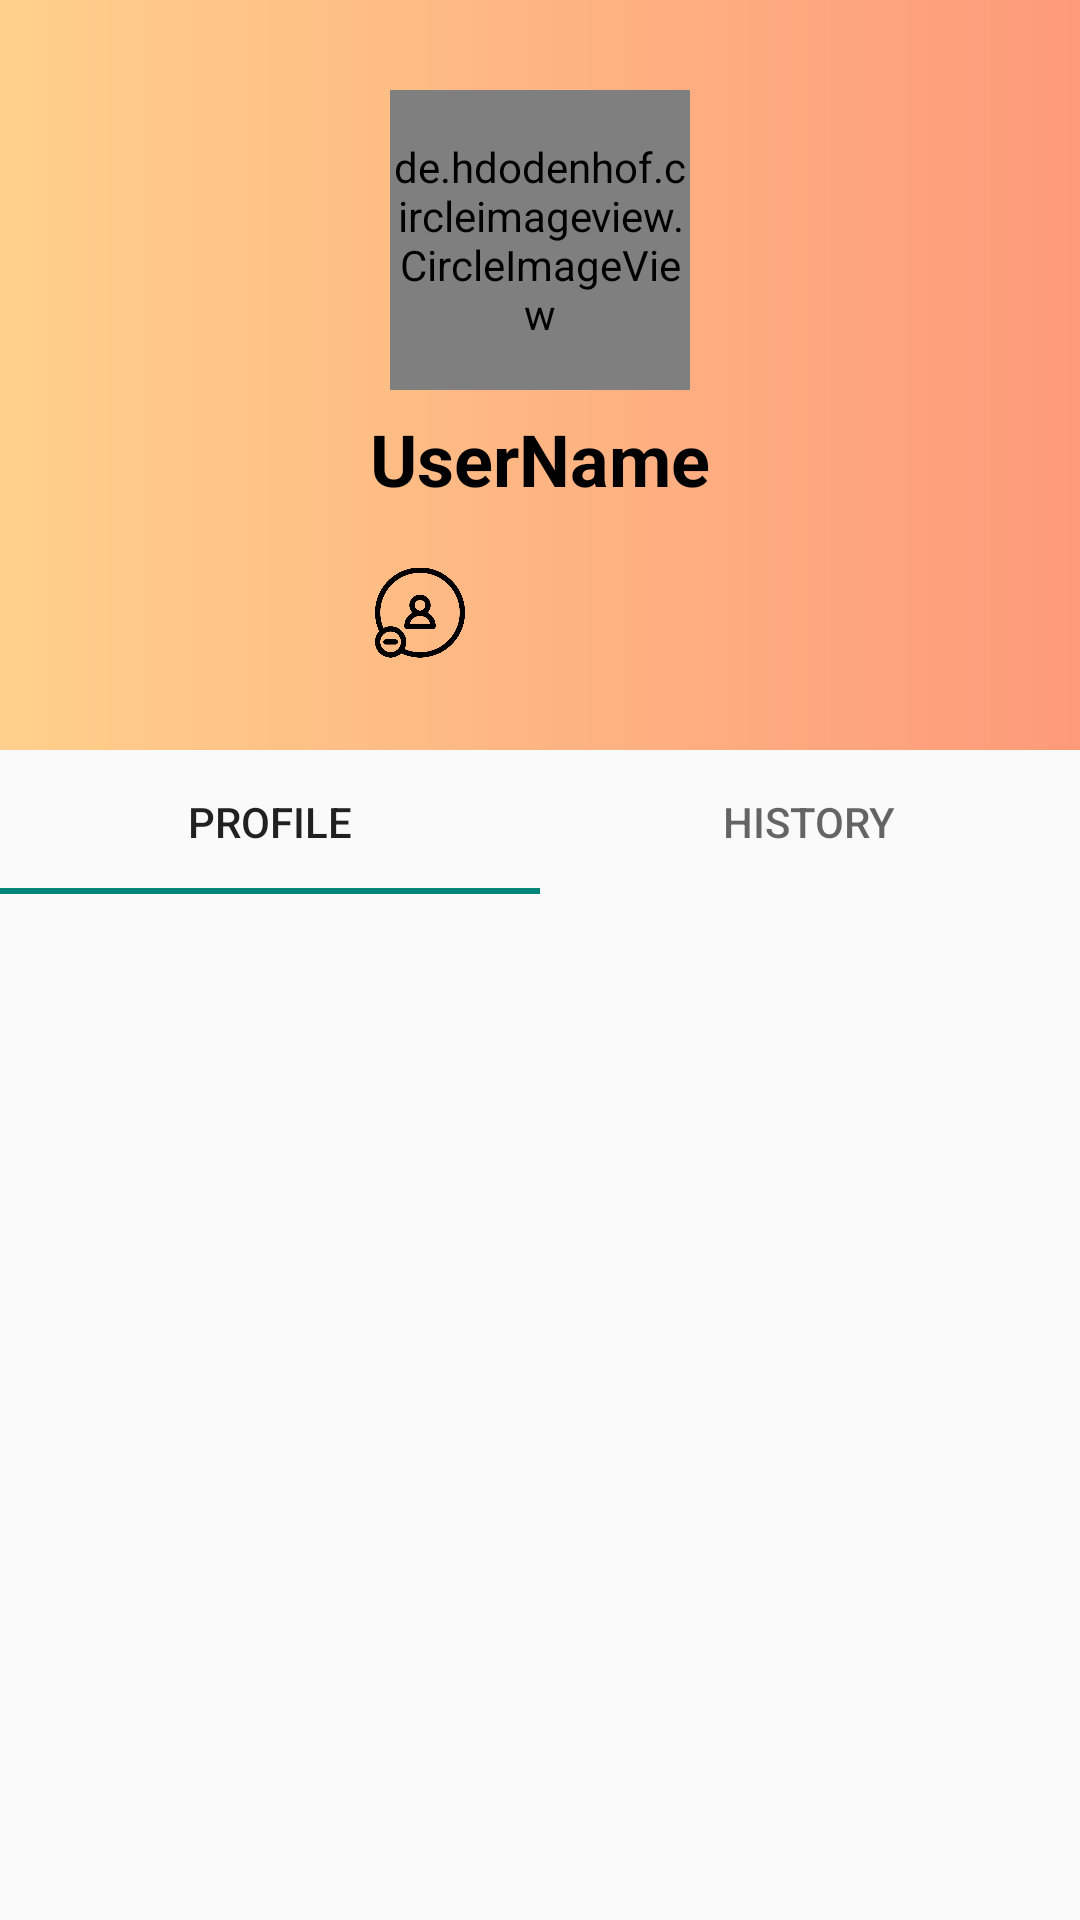

Icon bounding boxes for this 1080×1920 phone screenshot, format (x1, y1, x2, y2):
delete: (375, 568, 465, 658)
